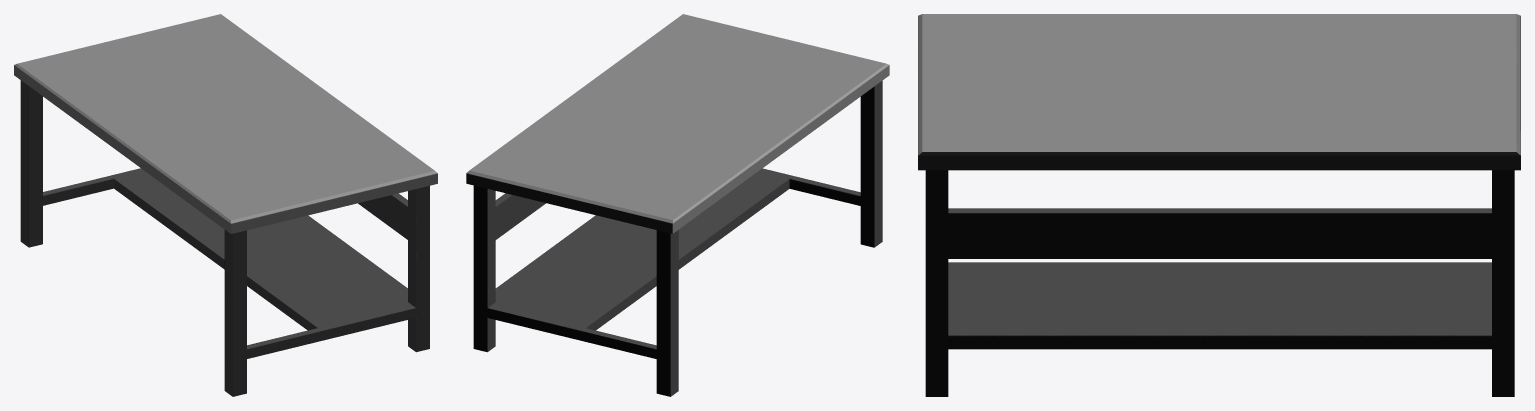
The model's file is Table.gltf.
The picture shows the model from 3 angles, left to right: view 1: azimuth 30°, elevation 25°; view 2: azimuth 150°, elevation 25°; view 3: azimuth 270°, elevation 25°; orthographic projection. The views are drawn at different scales.
Visible parts, largest first — view 1: Cube001; view 2: Cube001; view 3: Cube001.
Part boxes in pixels (box(x1,y1,x2,y2)): Cube001: box(14, 14, 437, 396); Cube001: box(466, 14, 889, 396); Cube001: box(918, 14, 1520, 396).
Bounding box in the file's own units: 146 × 121 × 266.
1 material, 1 textured.
